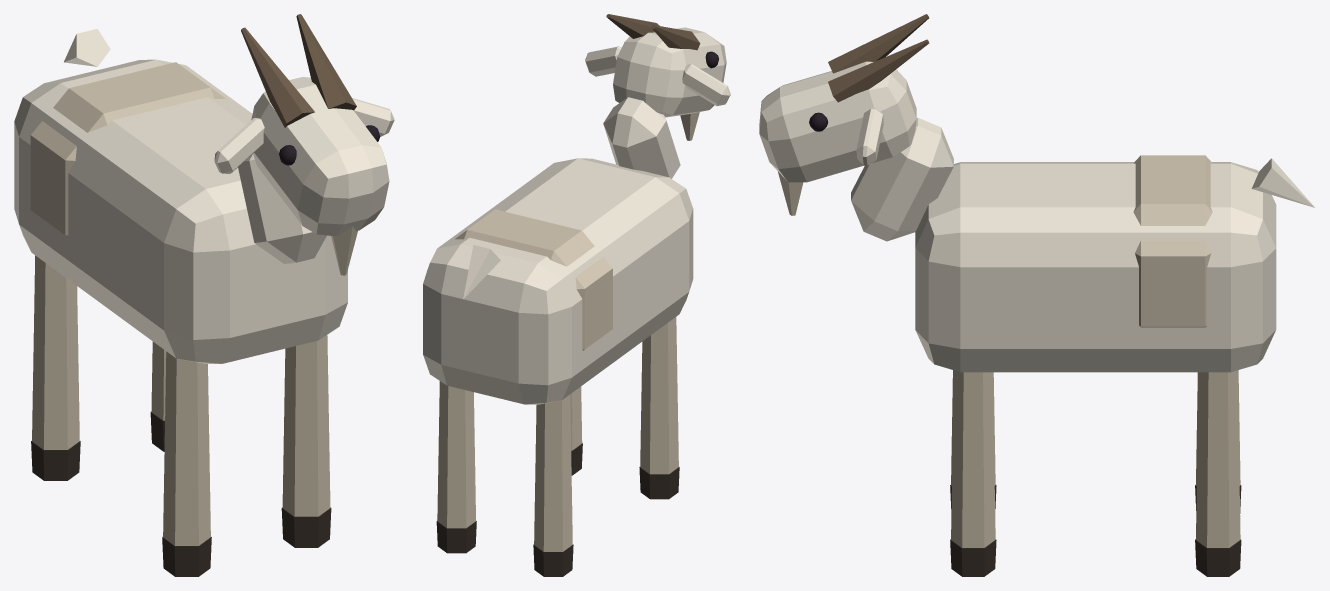
File: critter_goat.glb
The picture shows the model from 3 angles, left to right: view 1: azimuth 30°, elevation 25°; view 2: azimuth 150°, elevation 25°; view 3: azimuth 270°, elevation 25°; orthographic projection. The views are drawn at different scales.
Visible parts, largest first — view 1: critter_goat; view 2: critter_goat; view 3: critter_goat.
Part boxes in pixels (bbox=[...]): critter_goat: bbox=[14, 14, 394, 576]; critter_goat: bbox=[423, 14, 730, 576]; critter_goat: bbox=[759, 14, 1314, 576].
Size of the model in its own units: 0.3072 by 0.8815 by 0.8628.
